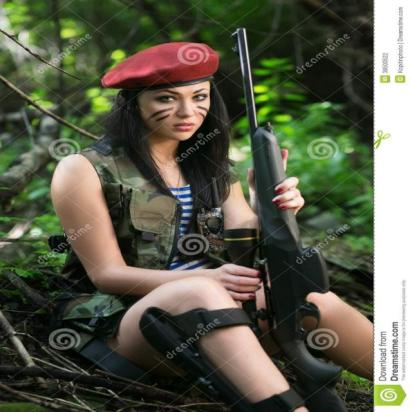Gun: (236, 24, 358, 395)
